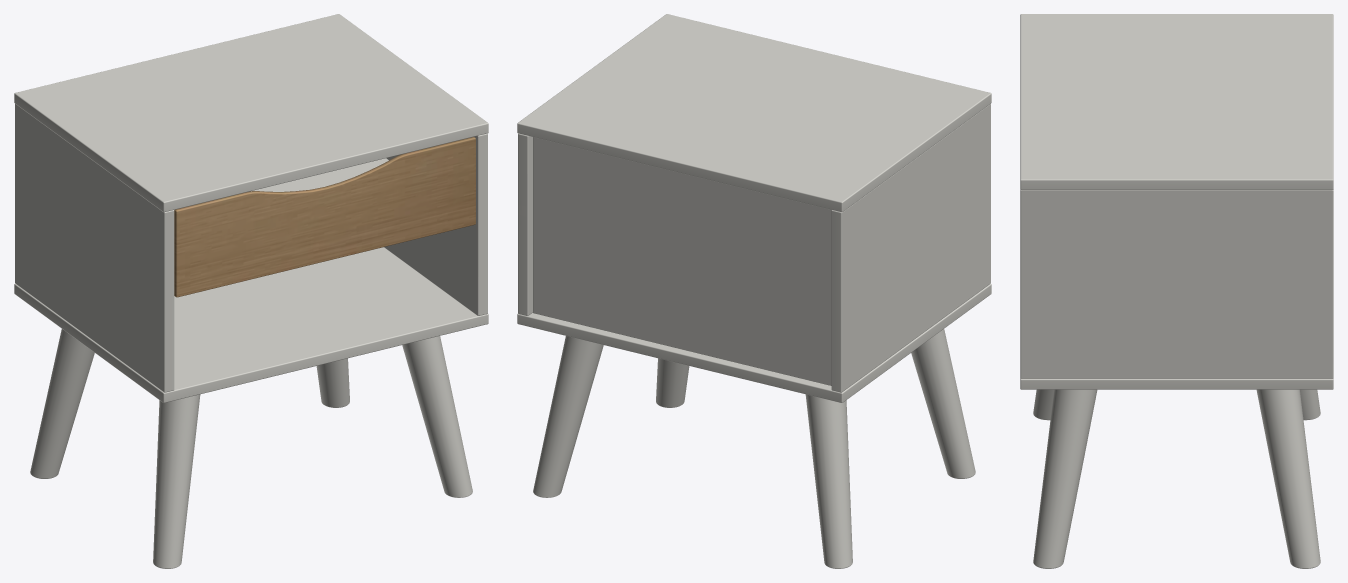
File: abo-B07QJLJRWW.glb
3 renders of one model, left to right at view 1: azimuth 30°, elevation 25°; view 2: azimuth 150°, elevation 25°; view 3: azimuth 270°, elevation 25°, orthographic. The views are drawn at different scales.
Size of the model in its own units: 0.508 by 0.559 by 0.405.
1 material, 1 textured.
